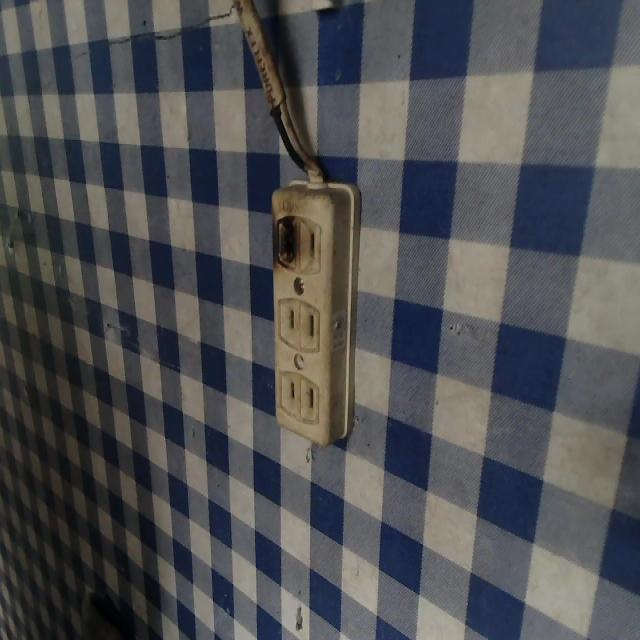-: (269, 212, 302, 268)
